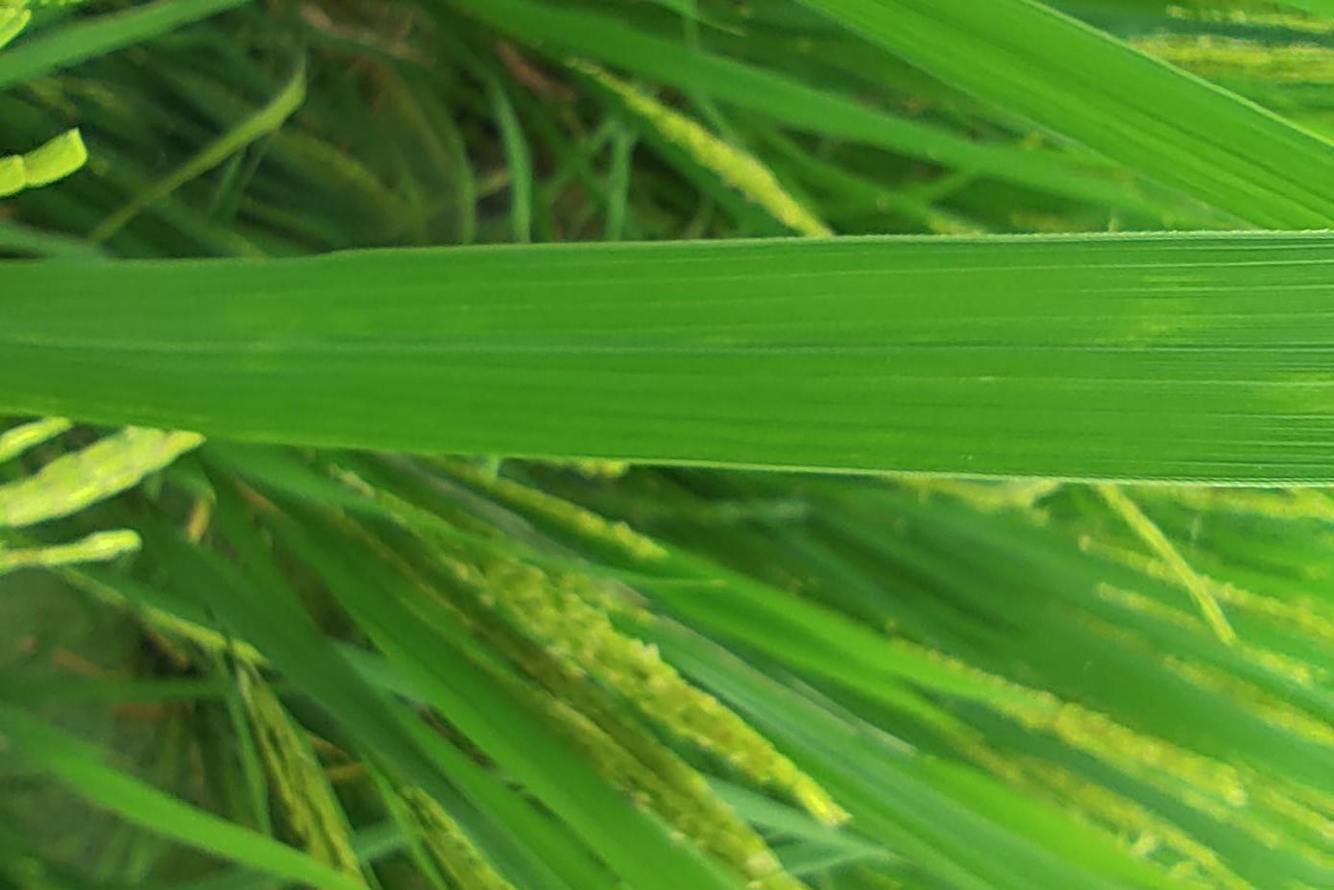Healthy: (0, 233, 1333, 482)
